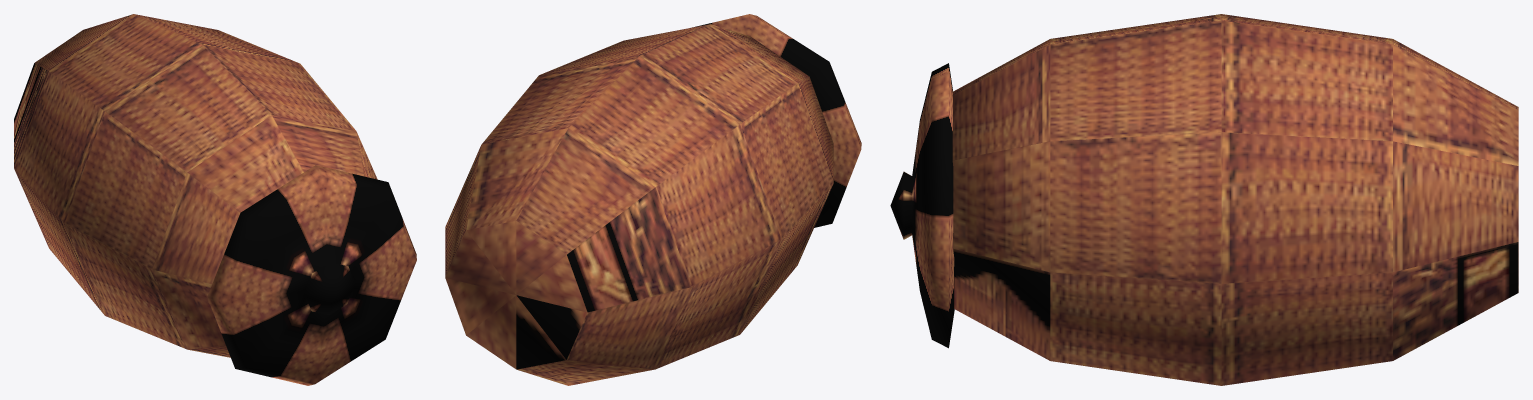
The model's file is basket.obj.
3 views of the same model, side by side, from view 1: azimuth 30°, elevation 25°; view 2: azimuth 150°, elevation 25°; view 3: azimuth 270°, elevation 25° (orthographic). The views are drawn at different scales.
Parts seen in each view (by area): view 1: jug2_Sphere.001; view 2: jug2_Sphere.001; view 3: jug2_Sphere.001.
Boxes of the visible parts, x1,y1,x2,y2 form: jug2_Sphere.001: (14, 14, 416, 385); jug2_Sphere.001: (445, 14, 861, 385); jug2_Sphere.001: (890, 14, 1518, 385).
Size of the model in its own units: 2 by 2 by 3.17.
